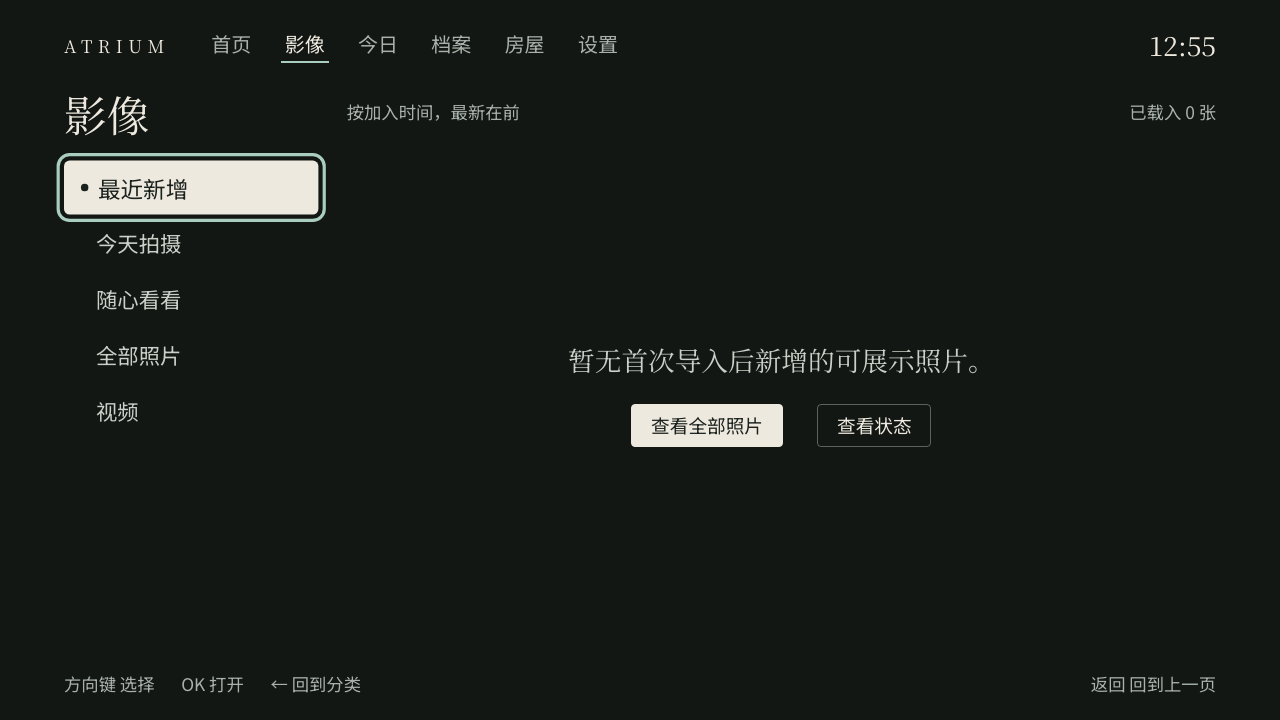
Scenario: collection browser (W-202) › explains an empty recent collection and offers all photos and status
The width and height of the screenshot is (1280, 720).
Expected: the text "暂无首次导入后新增的可展示照片。" is shown, top-left (568, 341), bottom-right (995, 380)
Expected: the button "查看全部照片" is shown, top-left (631, 404), bottom-right (783, 447)
Click the button "查看状态" at (874, 425), box top-left (817, 404), bottom-right (931, 447)
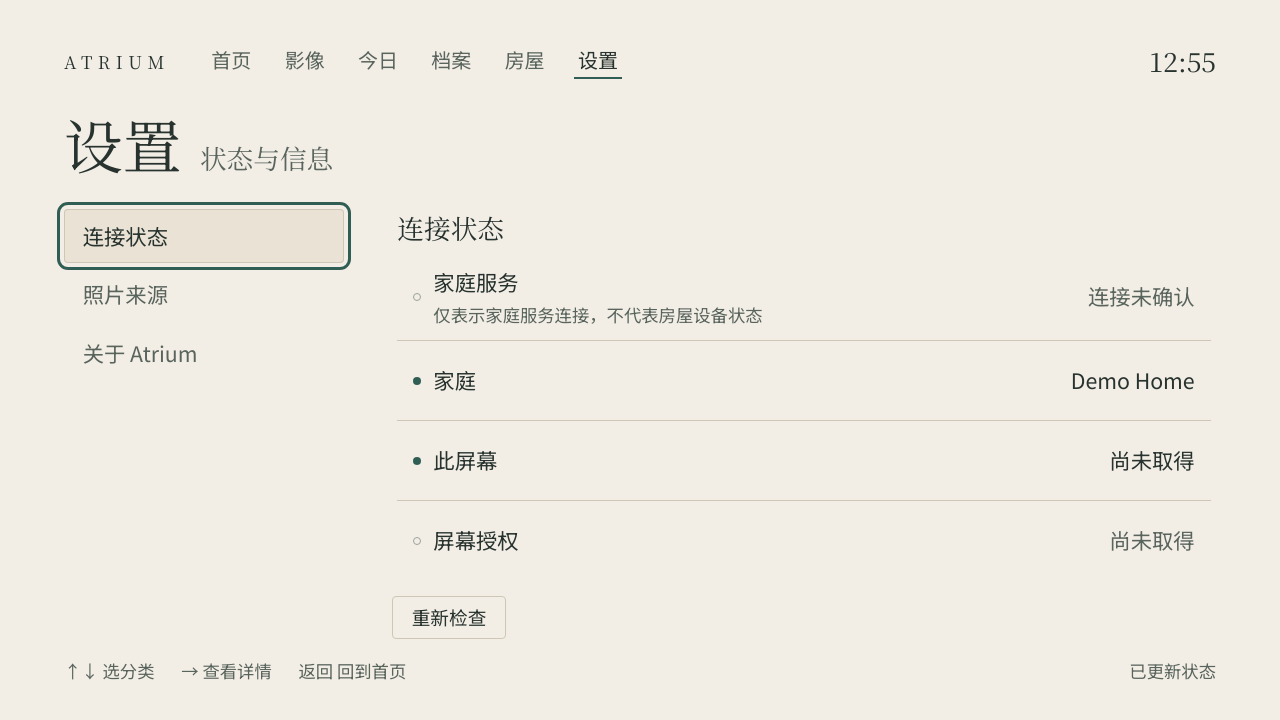
Now the heading "设置" is shown, box top-left (64, 115), bottom-right (181, 173)
